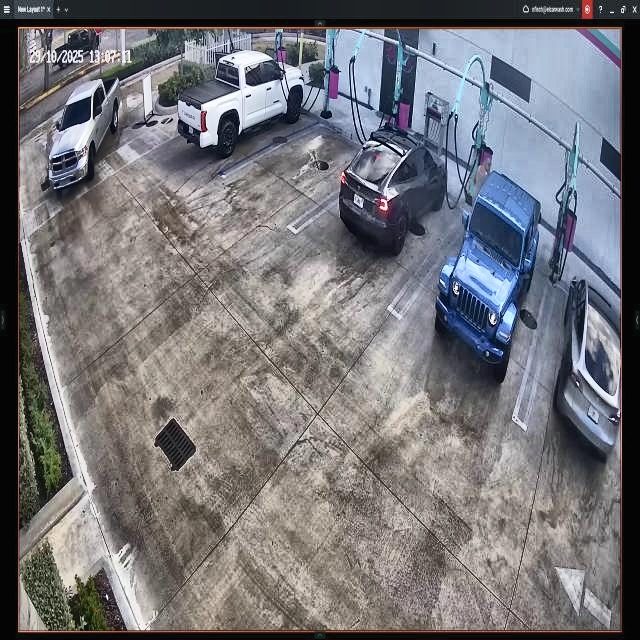Car: (437, 174, 540, 385), (341, 121, 448, 252), (177, 54, 303, 152)
